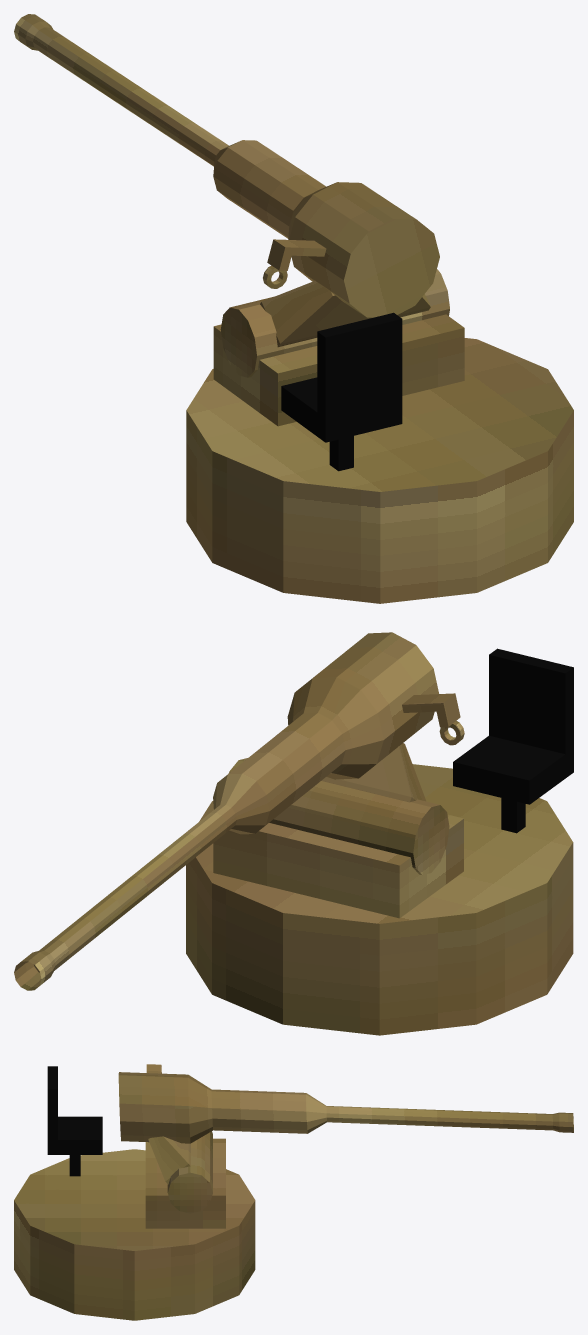
Rendered from gunemplacement.glb.
The picture shows the model from 3 angles, top to bottom: view 1: azimuth 30°, elevation 25°; view 2: azimuth 150°, elevation 25°; view 3: azimuth 270°, elevation 25°; orthographic projection. The views are drawn at different scales.
Visible parts, largest first — view 1: TurretBase-animcol, Gun-animcol, GunSeat-animcol, GunBase-animcol, GunSupportVerticalRotation-animcol, GunMidSupport-animcol, SeatBase-animcol; view 2: TurretBase-animcol, Gun-animcol, GunBase-animcol, GunSeat-animcol, GunSupportVerticalRotation-animcol, GunMidSupport-animcol, SeatBase-animcol; view 3: TurretBase-animcol, Gun-animcol, GunBase-animcol, GunSeat-animcol, GunSupportVerticalRotation-animcol, GunMidSupport-animcol.
Part boxes in pixels (box(x1,y1,x2,y2)): TurretBase-animcol: box(186, 338, 573, 603); Gun-animcol: box(14, 14, 439, 317); GunSeat-animcol: box(281, 312, 402, 442); GunBase-animcol: box(213, 314, 464, 426); GunSupportVerticalRotation-animcol: box(220, 269, 449, 377); GunMidSupport-animcol: box(260, 280, 430, 347); SeatBase-animcol: box(329, 436, 353, 471); TurretBase-animcol: box(186, 764, 573, 1035); Gun-animcol: box(14, 632, 460, 990); GunBase-animcol: box(213, 814, 463, 918); GunSeat-animcol: box(453, 648, 573, 804); GunSupportVerticalRotation-animcol: box(228, 758, 449, 875); GunMidSupport-animcol: box(321, 743, 425, 802); SeatBase-animcol: box(501, 798, 525, 833); TurretBase-animcol: box(14, 1149, 255, 1320); Gun-animcol: box(118, 1064, 573, 1143); GunBase-animcol: box(145, 1138, 225, 1228); GunSeat-animcol: box(47, 1066, 102, 1154); GunSupportVerticalRotation-animcol: box(167, 1131, 212, 1213); GunMidSupport-animcol: box(148, 1136, 190, 1184).
Bounding box in the file's own units: 3.63 × 3.23 × 8.41.
2 materials, 1 textured.
